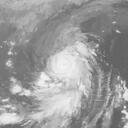cyclone: (43, 45, 91, 99)
